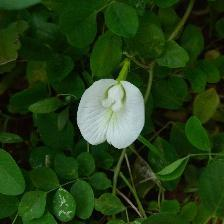shankupushpam: (76, 79, 148, 151)
